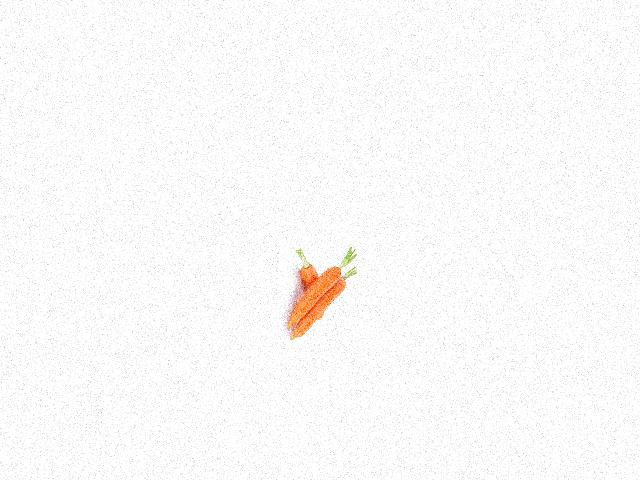carrot: (299, 249, 327, 323)
